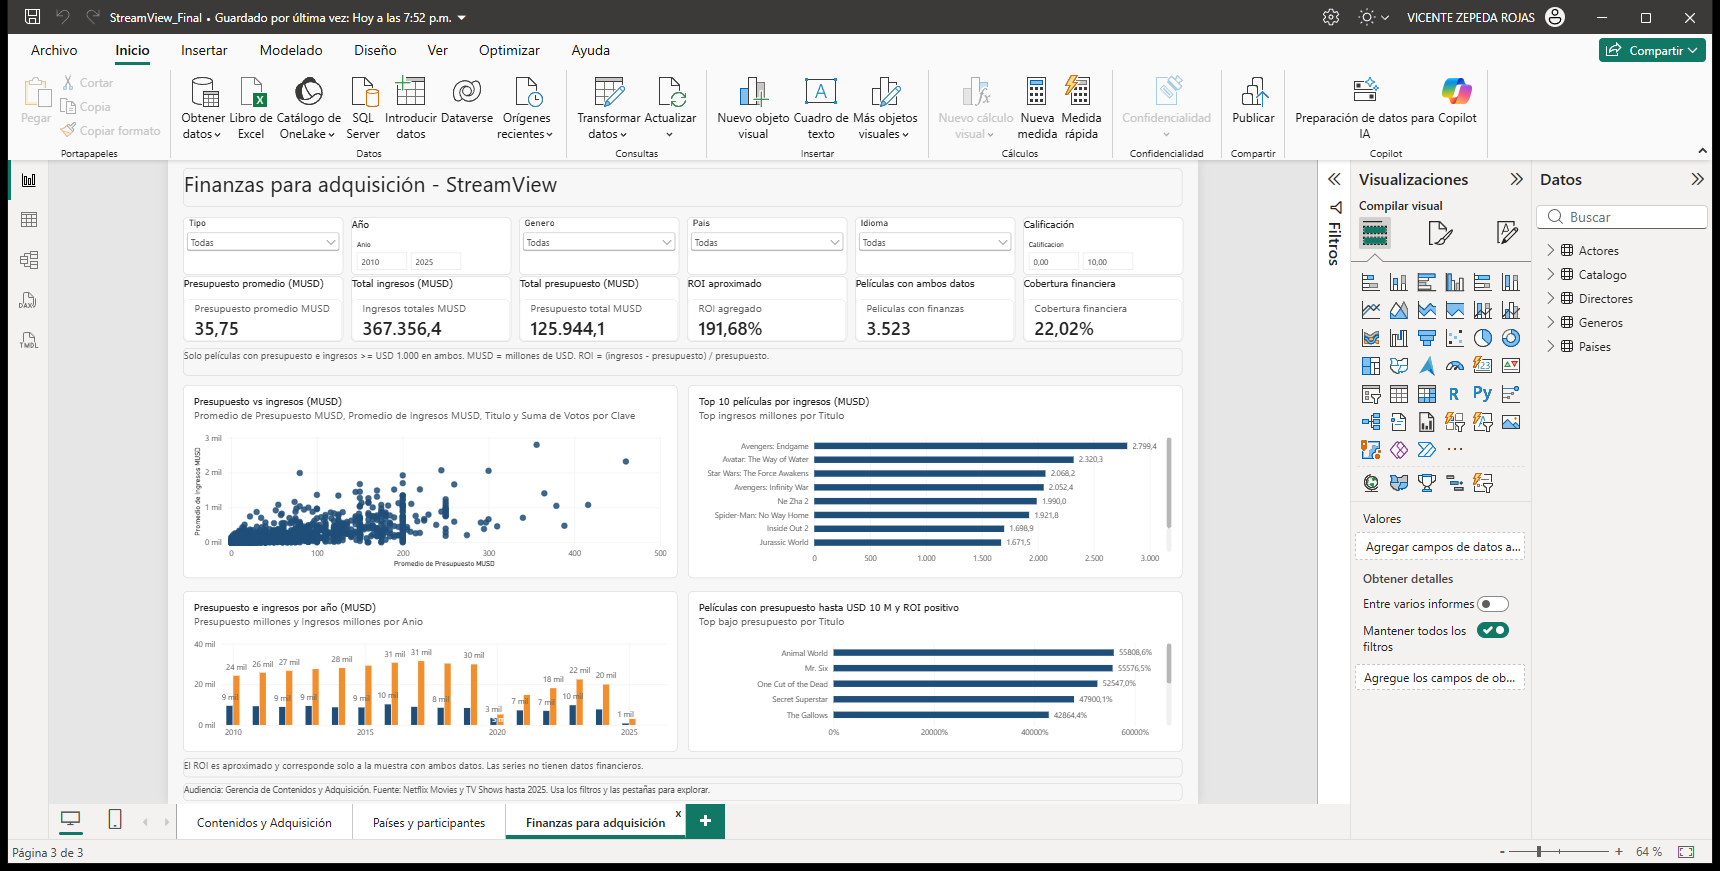

The page's visual inventory and layout, read from the dashboard file:
{"tool":"powerbi","page":{"name":"Finanzas para adquisición","canvas":[1600,1000],"ordinal":2},"visuals":[{"type":"textbox","box":[24,12,1552,60],"z":32},{"type":"slicer","title":"Tipo","fields":{"Values":["Catalogo.Tipo"]},"box":[24,88,248.7,90],"z":33},{"type":"slicer","title":"Año","fields":{"Values":["Catalogo.Anio"]},"box":[284.7,88,248.7,90],"z":34},{"type":"slicer","title":"Género","fields":{"Values":["Generos.Genero"]},"box":[545.3,88,248.7,90],"z":35},{"type":"slicer","title":"País","fields":{"Values":["Paises.Pais"]},"box":[806,88,248.7,90],"z":36},{"type":"slicer","title":"Idioma","fields":{"Values":["Catalogo.Idioma"]},"box":[1066.7,88,248.7,90],"z":37},{"type":"slicer","title":"Calificación","fields":{"Values":["Catalogo.Calificacion"]},"box":[1327.3,88,248.7,90],"z":38},{"type":"textbox","box":[24,967,1552,28],"z":39},{"type":"cardVisual","title":"Presupuesto promedio (MUSD)","fields":{"Data":["Catalogo.Presupuesto promedio MUSD"]},"box":[24,180,248.7,102],"z":40},{"type":"cardVisual","title":"Total ingresos (MUSD)","fields":{"Data":["Catalogo.Ingresos totales MUSD"]},"box":[284.7,180,248.7,102],"z":41},{"type":"cardVisual","title":"Total presupuesto (MUSD)","fields":{"Data":["Catalogo.Presupuesto total MUSD"]},"box":[545.3,180,248.7,102],"z":42},{"type":"cardVisual","title":"ROI aproximado","fields":{"Data":["Catalogo.ROI agregado"]},"box":[806,180,248.7,102],"z":43},{"type":"cardVisual","title":"Películas con ambos datos","fields":{"Data":["Catalogo.Peliculas con finanzas"]},"box":[1066.7,180,248.7,102],"z":44},{"type":"cardVisual","title":"Cobertura financiera","fields":{"Data":["Catalogo.Cobertura financiera"]},"box":[1327.3,180,248.7,102],"z":45},{"type":"textbox","box":[24,292,1552,43],"z":46},{"type":"scatterChart","title":"Presupuesto vs ingresos (MUSD)","fields":{"Category":["Catalogo.Clave"],"X":["1(Catalogo.Presupuesto MUSD)"],"Y":["1(Catalogo.Ingresos MUSD)"]},"box":[24,350,768,300],"z":47},{"type":"clusteredBarChart","title":"Top 10 películas por ingresos (MUSD)","fields":{"Category":["Catalogo.Titulo"],"Y":["Catalogo.Top ingresos millones"]},"box":[808,350,768,300],"z":48},{"type":"clusteredColumnChart","title":"Presupuesto e ingresos por año (MUSD)","fields":{"Category":["Catalogo.Anio"],"Y":["Catalogo.Presupuesto millones","Catalogo.Ingresos millones"]},"box":[24,670,768,250],"z":49},{"type":"clusteredBarChart","title":"Películas con presupuesto hasta USD 10 M y ROI positivo","fields":{"Category":["Catalogo.Titulo"],"Y":["Catalogo.Top bajo presupuesto"]},"box":[808,670,768,250],"z":50},{"type":"textbox","box":[24,929,1552,30],"z":51}]}

Visuals, with their boxes on the page's 1600x1000 design canvas (x1, y1, x2, y2). These are canvas units, not pixel positions in the 1720x871 screenshot, which may show the page scaled, cropped or inside an application window:
textbox: [24, 12, 1576, 72]
"Tipo" slicer: [24, 88, 273, 178]
"Año" slicer: [285, 88, 533, 178]
"Género" slicer: [545, 88, 794, 178]
"País" slicer: [806, 88, 1055, 178]
"Idioma" slicer: [1067, 88, 1315, 178]
"Calificación" slicer: [1327, 88, 1576, 178]
textbox: [24, 967, 1576, 995]
"Presupuesto promedio (MUSD)" cardVisual: [24, 180, 273, 282]
"Total ingresos (MUSD)" cardVisual: [285, 180, 533, 282]
"Total presupuesto (MUSD)" cardVisual: [545, 180, 794, 282]
"ROI aproximado" cardVisual: [806, 180, 1055, 282]
"Películas con ambos datos" cardVisual: [1067, 180, 1315, 282]
"Cobertura financiera" cardVisual: [1327, 180, 1576, 282]
textbox: [24, 292, 1576, 335]
"Presupuesto vs ingresos (MUSD)" scatterChart: [24, 350, 792, 650]
"Top 10 películas por ingresos (MUSD)" clusteredBarChart: [808, 350, 1576, 650]
"Presupuesto e ingresos por año (MUSD)" clusteredColumnChart: [24, 670, 792, 920]
"Películas con presupuesto hasta USD 10 M y ROI positivo" clusteredBarChart: [808, 670, 1576, 920]
textbox: [24, 929, 1576, 959]
